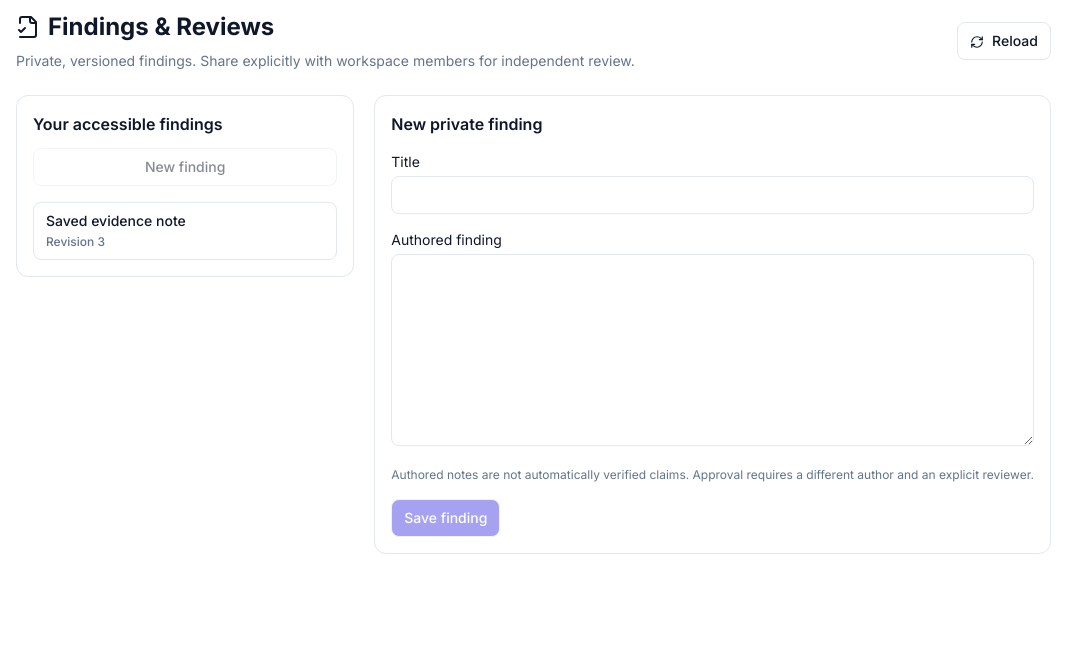
Test: Findings workbench › viewer controls cannot mutate or export
Step 1. Click the button "Saved evidence note Revision 3" → (185, 231), box [33,202,337,260]
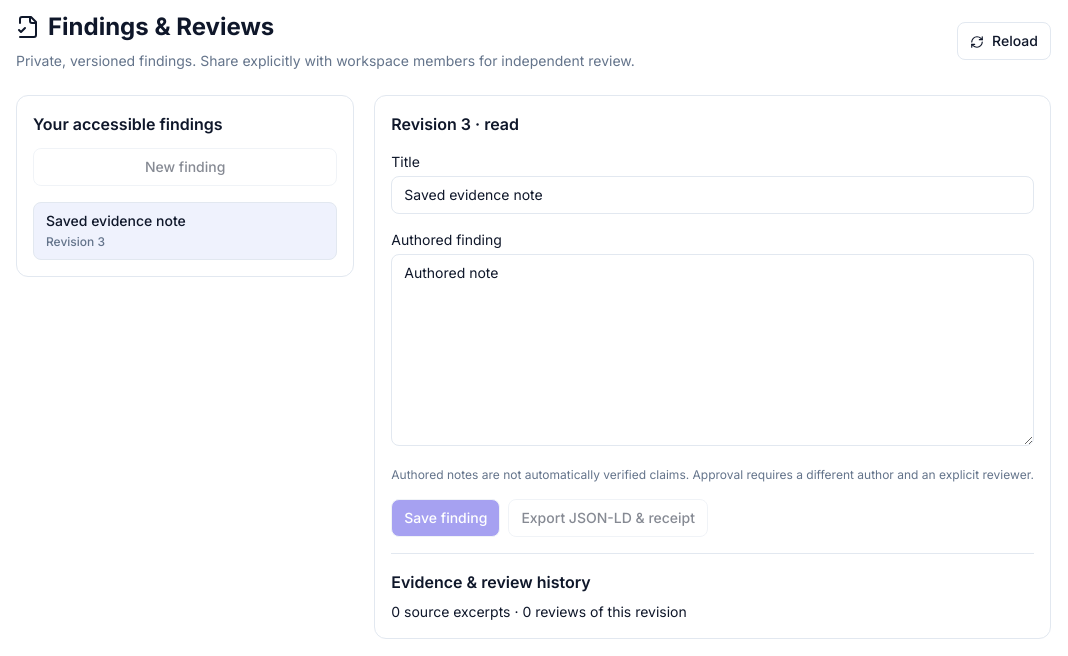
Expected: the button "Save finding" is disabled, [391,499,500,537]
Expected: the field labelled "Title" holds "Saved evidence note", [391,176,1034,214]
Expected: the button "Export JSON-LD & receipt" is disabled, [508,499,708,537]
